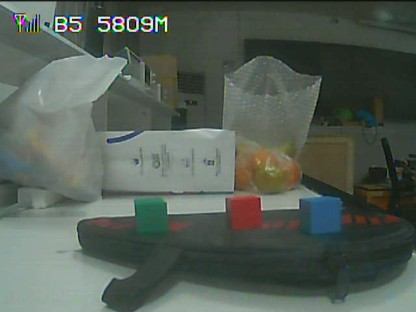b: (300, 198, 338, 231)
g: (135, 198, 165, 230)
r: (227, 197, 259, 229)
